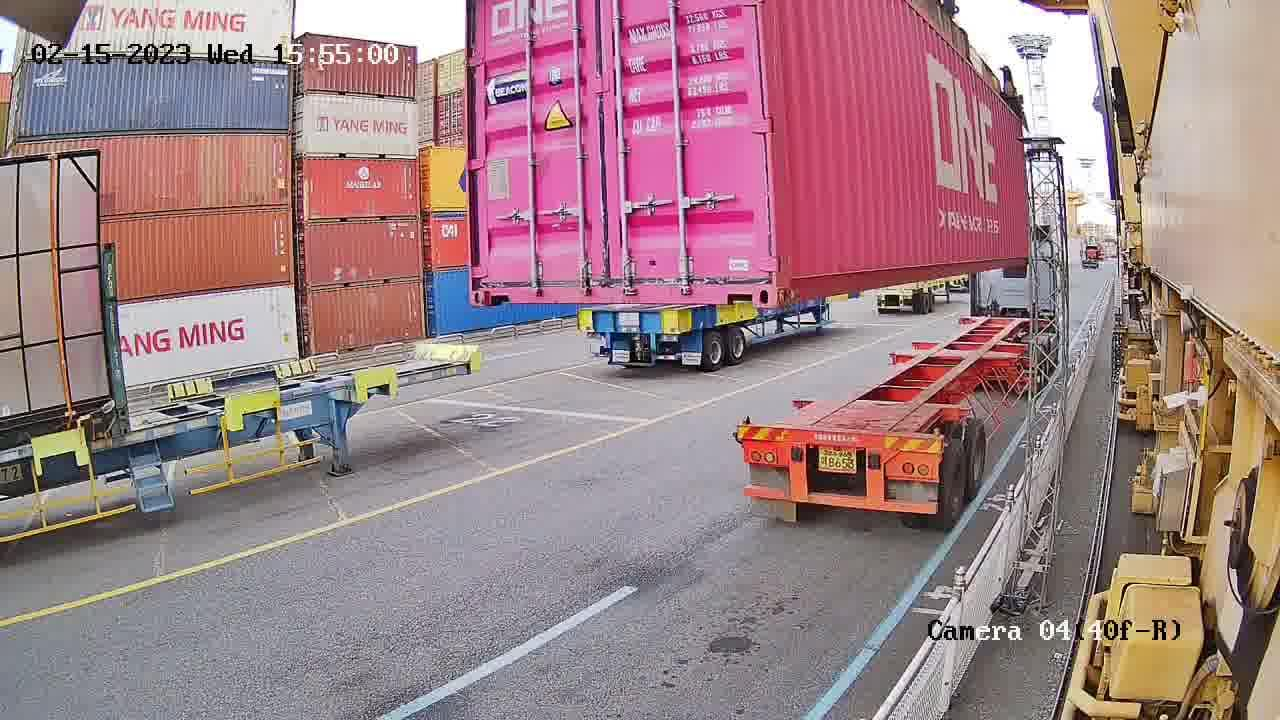Chassis: (733, 426, 942, 480)
Hole_L: (778, 253, 822, 307), (466, 257, 514, 306)
Hole_R: (721, 255, 777, 306)
Tire: (939, 443, 969, 519), (969, 420, 988, 482)
